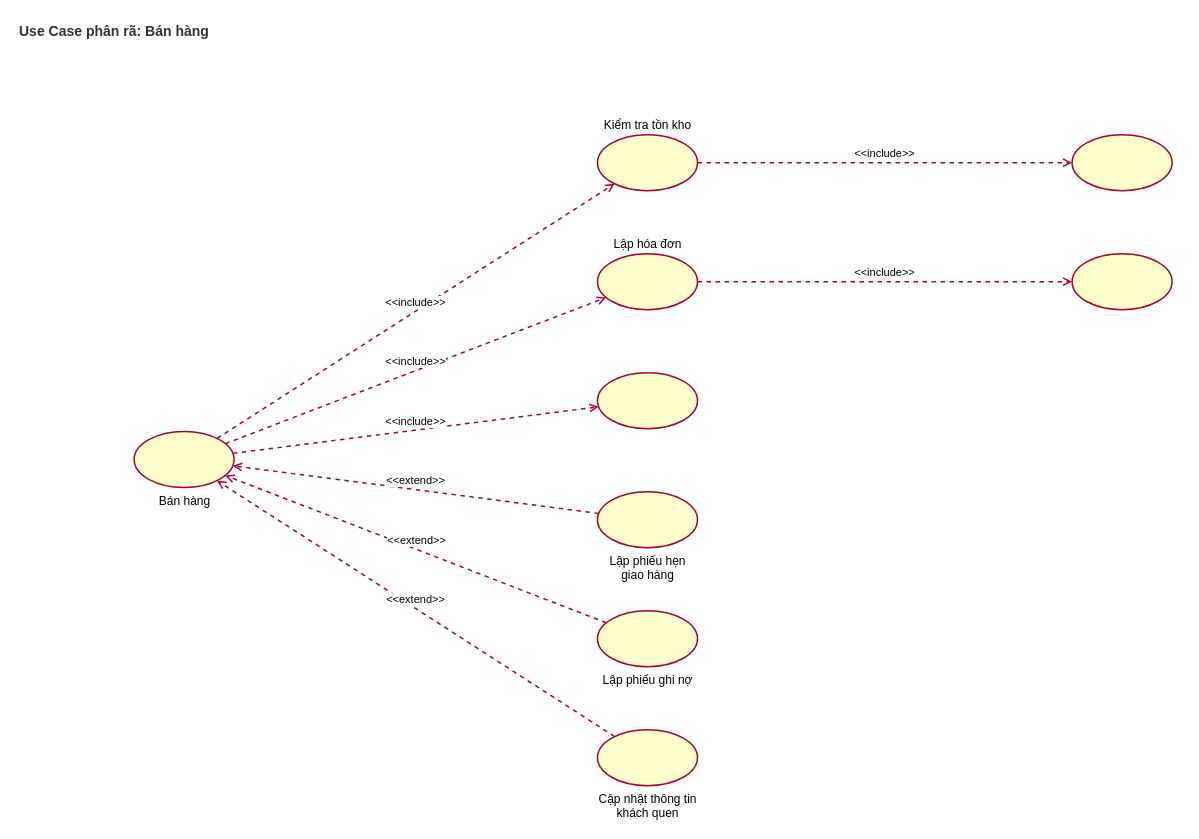
The diagram is 1199 pixels wide and 839 high, and some of its shapes have lost their labels. Each missing label, with the centre of its shape:
Giao hàng: (647,400)
Thanh toán: (1121,281)
Tra cứu thông tin NGK: (1121,162)
